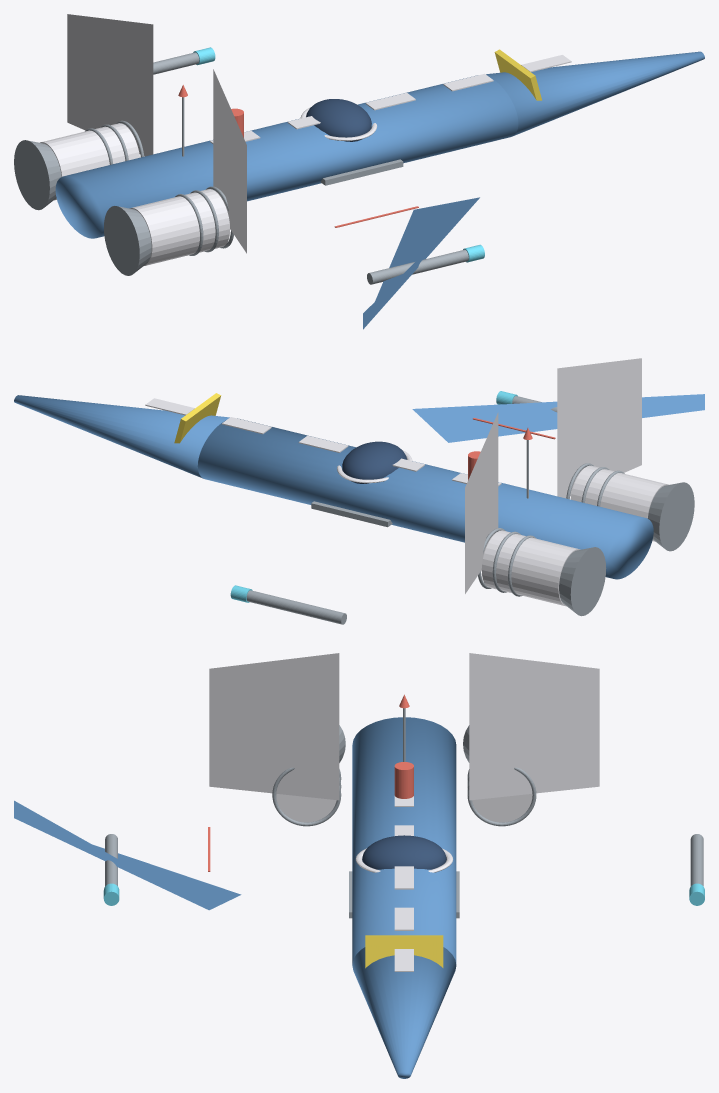
Rendered from starfighter_anime.gltf.
The picture shows the model from 3 angles, top to bottom: view 1: azimuth 30°, elevation 25°; view 2: azimuth 150°, elevation 25°; view 3: azimuth 270°, elevation 25°; orthographic projection. The views are drawn at different scales.
Visible parts, largest first — view 1: Cylinder, Stab_-1, Cone, Cylinder.001, Stab_1, LeftWing, Cylinder.003, Cone.001, Cone.002, Sphere, Cylinder.005, Cube (+2 smaller); view 2: Cylinder, Stab_1, Cone, LeftWing, Cylinder.003, Stab_-1, Cylinder.001, Cone.002, Cone.001, Sphere, Cylinder.007, Cube (+4 smaller); view 3: Cylinder, Stab_1, Stab_-1, Cone, LeftWing, Sphere, Cube, Cylinder.001, Cylinder.003, Cylinder.009, Cylinder.007.
Part boxes in pixels (x1=…): Cylinder: x1=55, y1=75, x2=518, y2=238; Stab_-1: x1=67, y1=14, x2=153, y2=156; Cone: x1=486, y1=51, x2=704, y2=136; Cylinder.001: x1=129, y1=189, x2=229, y2=265; Stab_1: x1=213, y1=69, x2=246, y2=253; LeftWing: x1=363, y1=197, x2=479, y2=329; Cylinder.003: x1=40, y1=123, x2=139, y2=200; Cone.001: x1=104, y1=206, x2=151, y2=275; Cone.002: x1=14, y1=140, x2=61, y2=210; Sphere: x1=306, y1=99, x2=371, y2=141; Cylinder.005: x1=367, y1=249, x2=468, y2=284; Cube: x1=494, y1=49, x2=541, y2=100; Cylinder: x1=197, y1=418, x2=653, y2=579; Stab_1: x1=557, y1=358, x2=641, y2=498; Cone: x1=14, y1=395, x2=229, y2=478; LeftWing: x1=412, y1=394, x2=704, y2=442; Cylinder.003: x1=481, y1=530, x2=580, y2=606; Stab_-1: x1=465, y1=412, x2=498, y2=593; Cylinder.001: x1=570, y1=465, x2=669, y2=541; Cone.002: x1=559, y1=547, x2=606, y2=616; Cone.001: x1=647, y1=482, x2=694, y2=551; Sphere: x1=342, y1=441, x2=406, y2=483; Cylinder.007: x1=246, y1=590, x2=346, y2=624; Cube: x1=174, y1=393, x2=221, y2=443; Cylinder: x1=352, y1=717, x2=456, y2=964; Stab_1: x1=209, y1=653, x2=339, y2=800; Stab_-1: x1=469, y1=653, x2=599, y2=800; Cone: x1=352, y1=947, x2=456, y2=1078; LeftWing: x1=14, y1=800, x2=241, y2=910; Sphere: x1=362, y1=835, x2=446, y2=869; Cube: x1=365, y1=935, x2=443, y2=968; Cylinder.001: x1=276, y1=794, x2=336, y2=822; Cylinder.003: x1=472, y1=794, x2=532, y2=822; Cylinder.009: x1=394, y1=762, x2=413, y2=798; Cylinder.007: x1=690, y1=834, x2=703, y2=886.
Size of the model in its own units: 12.05 by 3.1 by 10.62.
